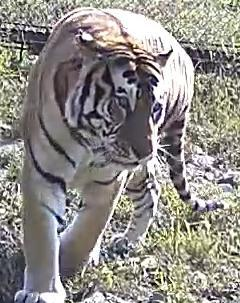tiger: (15, 7, 193, 302)
